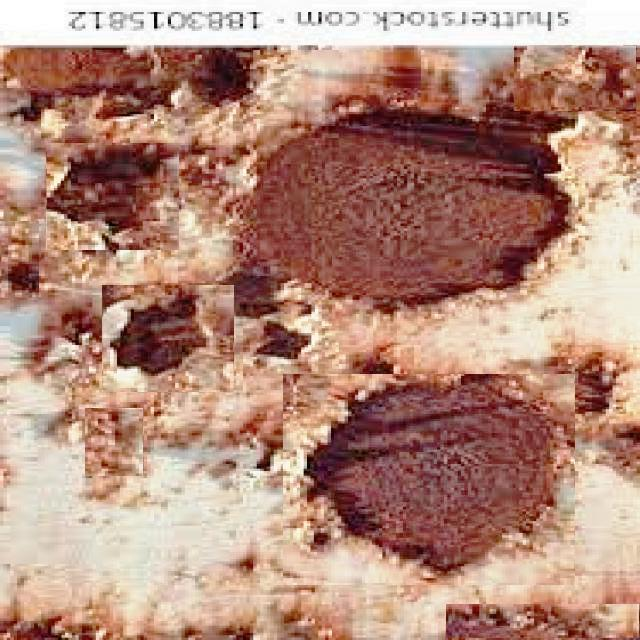Corrosion: (254, 110, 567, 298), (309, 375, 566, 576), (3, 46, 210, 94), (46, 148, 150, 233), (513, 46, 640, 111), (110, 296, 204, 375), (446, 605, 640, 640), (192, 46, 248, 105), (597, 426, 640, 488), (256, 322, 309, 359), (577, 366, 617, 414), (235, 274, 278, 318), (6, 264, 38, 293)
